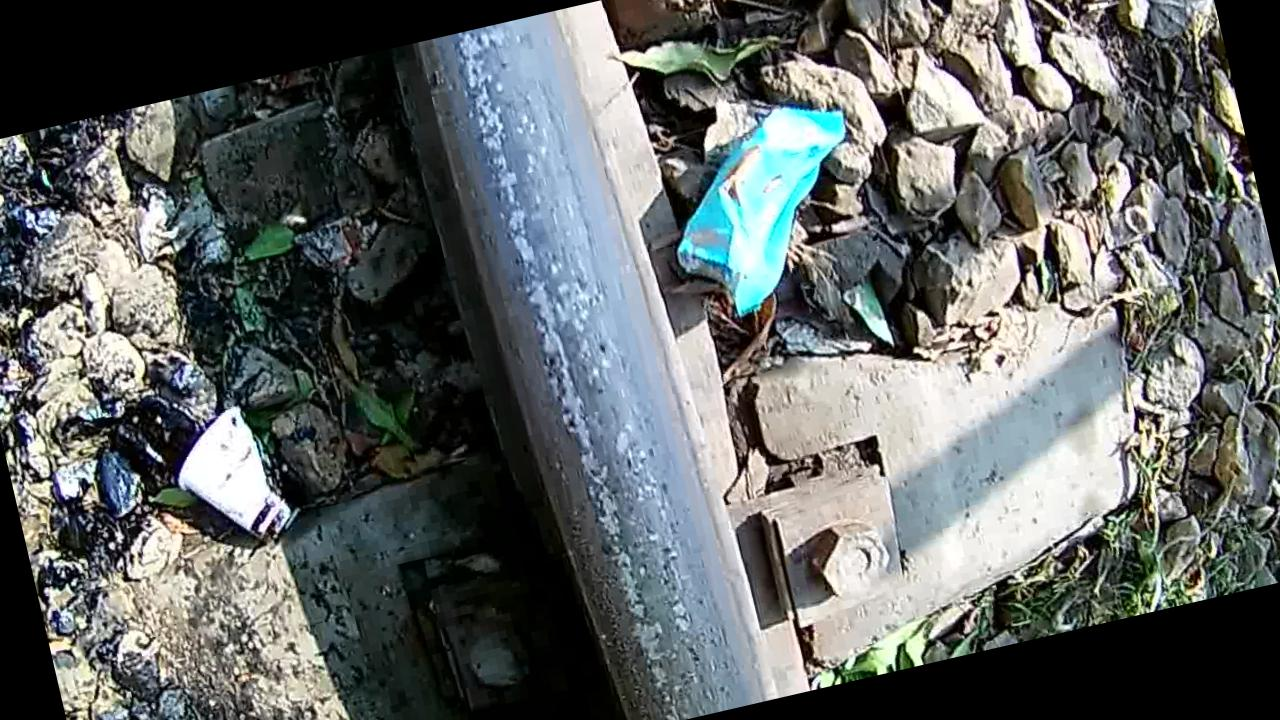clip_missing: (399, 4, 746, 720)
